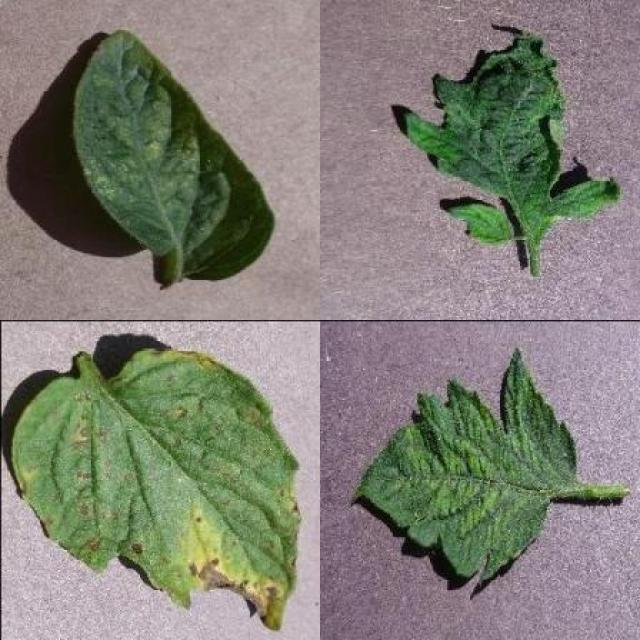Mosaic Virus: (350, 342, 576, 585), (401, 34, 625, 246)
Septoria: (10, 347, 296, 633)
Spider Mites: (70, 31, 274, 282)
